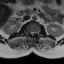CCS_normal: (32, 30, 33, 37)
LFS_severe_stenosis: (35, 30, 37, 35)
LLS_stenosis: (33, 30, 35, 35)
RFS_severe_stenosis: (28, 30, 30, 34)
RLS_stenosis: (30, 30, 32, 35)
